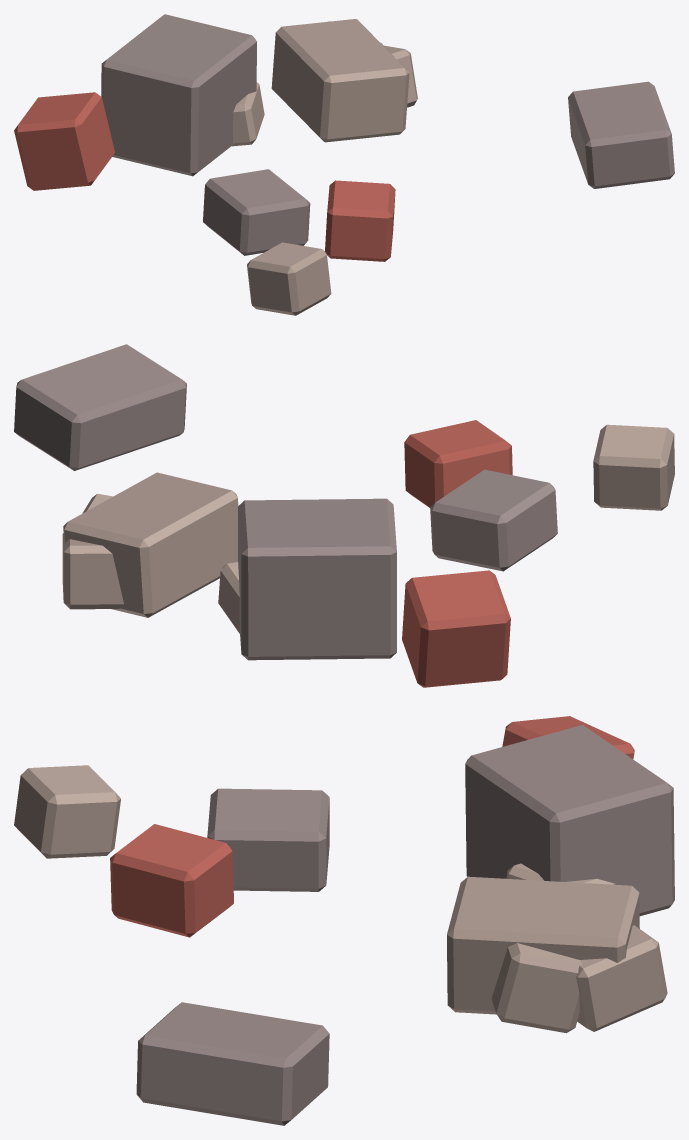
The model's file is Rubble_Pile.fbx.
3 views of the same model, one above another, from view 1: azimuth 30°, elevation 25°; view 2: azimuth 150°, elevation 25°; view 3: azimuth 270°, elevation 25° (orthographic). The views are drawn at different scales.
Visible parts, largest first — view 1: Rubble_Pile; view 2: Rubble_Pile; view 3: Rubble_Pile.
Part boxes in pixels (<box>): Rubble_Pile: <box>14,14,674,315</box>; Rubble_Pile: <box>14,344,674,687</box>; Rubble_Pile: <box>14,716,674,1125</box>.
Bounding box in the file's own units: 2.18 × 0.4012 × 1.78.
